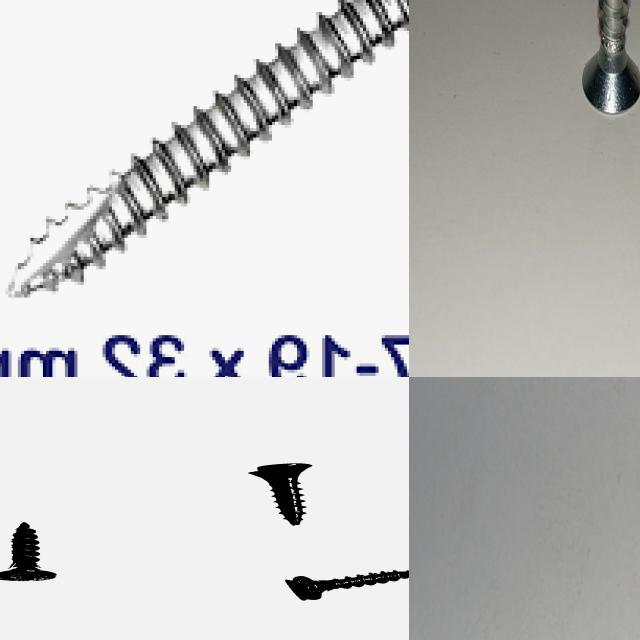Screw: (5, 0, 409, 301), (582, 0, 640, 114), (250, 463, 313, 525), (287, 571, 409, 600), (0, 522, 57, 581)
